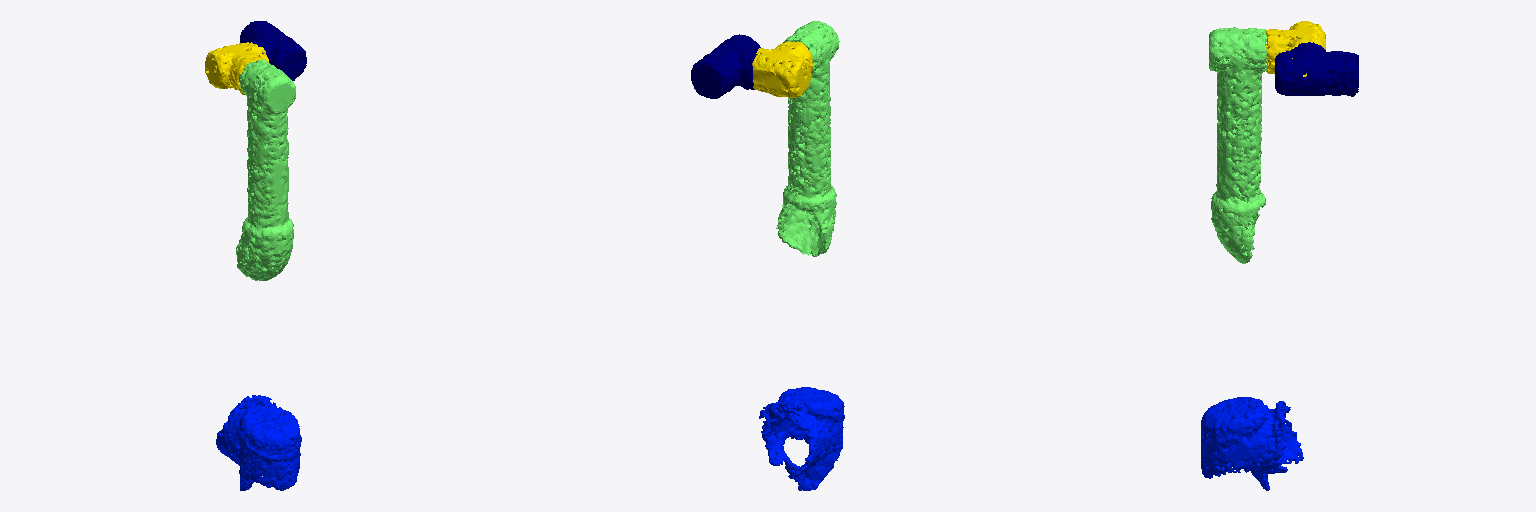
The robot description file, URDF, robot "estimated_robot":
<?xml version='1.0' encoding='utf-8'?>
<robot name="estimated_robot">
  <link name="link_5">
    <visual>
      <origin xyz="0.0014928468 -0.0026043802 0.0444168" rpy="0.0 0.0 0.0" />
      <geometry>
        <mesh filename="mesh/ur5_20_seg/4_deg_20_cams/V0000/0005.stl" scale="1 1 1" />
      </geometry>
      <material name="material_5">
        <color rgba="1.0 0.27668845315904156 0.0 1" />
      </material>
    </visual>
    <collision>
      <origin xyz="0.0014928468 -0.0026043802 0.0444168" rpy="0.0 0.0 0.0" />
      <geometry>
        <mesh filename="mesh/ur5_20_seg/4_deg_20_cams/V0000/0005.stl" scale="1 1 1" />
      </geometry>
    </collision>
    <inertial>
      <origin xyz="0.0014928468 -0.0026043802 0.0444168" rpy="0.0 0.0 0.0" />
      <mass value="1.0" />
      <inertia ixx="0.1" ixy="0.0" ixz="0.0" iyy="0.1" iyz="0.0" izz="0.1" />
    </inertial>
  </link>
  <link name="link_1">
    <visual>
      <origin xyz="-0.0020327757449668804 0.014837000767435955 0.08994051271876799" rpy="0.0 0.0 0.0" />
      <geometry>
        <mesh filename="mesh/ur5_20_seg/4_deg_20_cams/V0000/0001.stl" scale="1 1 1" />
      </geometry>
      <material name="material_1">
        <color rgba="0.0 0.1588235294117647 1.0 1" />
      </material>
    </visual>
    <collision>
      <origin xyz="-0.0020327757449668804 0.014837000767435955 0.08994051271876799" rpy="0.0 0.0 0.0" />
      <geometry>
        <mesh filename="mesh/ur5_20_seg/4_deg_20_cams/V0000/0001.stl" scale="1 1 1" />
      </geometry>
    </collision>
    <inertial>
      <origin xyz="-0.0020327757449668804 0.014837000767435955 0.08994051271876799" rpy="0.0 0.0 0.0" />
      <mass value="1.0" />
      <inertia ixx="0.1" ixy="0.0" ixz="0.0" iyy="0.1" iyz="0.0" izz="0.1" />
    </inertial>
  </link>
  <link name="link_2">
    <visual>
      <origin xyz="0.000430177460270186 0.1162458201328795 0.24779741921424384" rpy="0.0 0.0 0.0" />
      <geometry>
        <mesh filename="mesh/ur5_20_seg/4_deg_20_cams/V0000/0002.stl" scale="1 1 1" />
      </geometry>
      <material name="material_2">
        <color rgba="0.0 0.8333333333333334 1.0 1" />
      </material>
    </visual>
    <collision>
      <origin xyz="0.000430177460270186 0.1162458201328795 0.24779741921424384" rpy="0.0 0.0 0.0" />
      <geometry>
        <mesh filename="mesh/ur5_20_seg/4_deg_20_cams/V0000/0002.stl" scale="1 1 1" />
      </geometry>
    </collision>
    <inertial>
      <origin xyz="0.000430177460270186 0.1162458201328795 0.24779741921424384" rpy="0.0 0.0 0.0" />
      <mass value="1.0" />
      <inertia ixx="0.1" ixy="0.0" ixz="0.0" iyy="0.1" iyz="0.0" izz="0.1" />
    </inertial>
  </link>
  <link name="link_3">
    <visual>
      <origin xyz="0.007010058094784618 -0.06930366120866674 0.20638976093904382" rpy="0.0 0.0 0.0" />
      <geometry>
        <mesh filename="mesh/ur5_20_seg/4_deg_20_cams/V0000/0003.stl" scale="1 1 1" />
      </geometry>
      <material name="material_3">
        <color rgba="0.4901960784313725 1.0 0.4775458570524984 1" />
      </material>
    </visual>
    <collision>
      <origin xyz="0.007010058094784618 -0.06930366120866674 0.20638976093904382" rpy="0.0 0.0 0.0" />
      <geometry>
        <mesh filename="mesh/ur5_20_seg/4_deg_20_cams/V0000/0003.stl" scale="1 1 1" />
      </geometry>
    </collision>
    <inertial>
      <origin xyz="0.007010058094784618 -0.06930366120866674 0.20638976093904382" rpy="0.0 0.0 0.0" />
      <mass value="1.0" />
      <inertia ixx="0.1" ixy="0.0" ixz="0.0" iyy="0.1" iyz="0.0" izz="0.1" />
    </inertial>
  </link>
  <link name="link_4">
    <visual>
      <origin xyz="-0.019140313115529523 0.014656907641161801 0.016907607981282546" rpy="0.0 0.0 0.0" />
      <geometry>
        <mesh filename="mesh/ur5_20_seg/4_deg_20_cams/V0000/0004.stl" scale="1 1 1" />
      </geometry>
      <material name="material_4">
        <color rgba="1.0 0.9012345679012348 0.0 1" />
      </material>
    </visual>
    <collision>
      <origin xyz="-0.019140313115529523 0.014656907641161801 0.016907607981282546" rpy="0.0 0.0 0.0" />
      <geometry>
        <mesh filename="mesh/ur5_20_seg/4_deg_20_cams/V0000/0004.stl" scale="1 1 1" />
      </geometry>
    </collision>
    <inertial>
      <origin xyz="-0.019140313115529523 0.014656907641161801 0.016907607981282546" rpy="0.0 0.0 0.0" />
      <mass value="1.0" />
      <inertia ixx="0.1" ixy="0.0" ixz="0.0" iyy="0.1" iyz="0.0" izz="0.1" />
    </inertial>
  </link>
  <link name="link_0">
    <visual>
      <origin xyz="0.06465529757673634 0.02343625514155584 0.00442971998199182" rpy="0.0 0.0 0.0" />
      <geometry>
        <mesh filename="mesh/ur5_20_seg/4_deg_20_cams/V0000/0000.stl" scale="1 1 1" />
      </geometry>
      <material name="material_0">
        <color rgba="0.0 0.0 0.5 1" />
      </material>
    </visual>
    <collision>
      <origin xyz="0.06465529757673634 0.02343625514155584 0.00442971998199182" rpy="0.0 0.0 0.0" />
      <geometry>
        <mesh filename="mesh/ur5_20_seg/4_deg_20_cams/V0000/0000.stl" scale="1 1 1" />
      </geometry>
    </collision>
    <inertial>
      <origin xyz="0.06465529757673634 0.02343625514155584 0.00442971998199182" rpy="0.0 0.0 0.0" />
      <mass value="1.0" />
      <inertia ixx="0.1" ixy="0.0" ixz="0.0" iyy="0.1" iyz="0.0" izz="0.1" />
    </inertial>
  </link>
  <joint name="joint_1" type="revolute">
    <parent link="link_5" />
    <child link="link_1" />
    <origin xyz="-0.003760807368733271 -0.00150098769619696 0.07714877074757112" rpy="0.0 0.0 0.0" />
    <axis xyz="0.011087188231813596 -0.008592595190431986 0.9999016159427916" />
    <limit effort="100" velocity="100" lower="-3.14159" upper="3.14159" />
  </joint>
  <joint name="joint_2" type="revolute">
    <parent link="link_1" />
    <child link="link_2" />
    <origin xyz="0.004229262478632951 0.02000025876319234 0.08195823923549644" rpy="0.0 0.0 0.0" />
    <axis xyz="-0.05205794610718861 0.9986440521070656 0.00016564504713479505" />
    <limit effort="100" velocity="100" lower="-3.14159" upper="3.14159" />
  </joint>
  <joint name="joint_3" type="revolute">
    <parent link="link_2" />
    <child link="link_3" />
    <origin xyz="-0.008002119345316479 0.05289608429924196 0.43839345734937296" rpy="0.0 0.0 0.0" />
    <axis xyz="0.041213874311807466 0.9972801264935067 0.06110454864660852" />
    <limit effort="100" velocity="100" lower="-3.14159" upper="3.14159" />
  </joint>
  <joint name="joint_4" type="revolute">
    <parent link="link_3" />
    <child link="link_4" />
    <origin xyz="0.014088059863205805 0.031915752365354 0.3723702435682654" rpy="0.0 0.0 0.0" />
    <axis xyz="0.010442377524764285 -0.9984324436311052 0.054987382702310655" />
    <limit effort="100" velocity="100" lower="-3.14159" upper="3.14159" />
  </joint>
  <joint name="joint_0" type="revolute">
    <parent link="link_4" />
    <child link="link_0" />
    <origin xyz="0.025626314926978713 0.029990903475691624 0.011216057669395707" rpy="0.0 0.0 0.0" />
    <axis xyz="-0.9999033278125578 0.011992130386673626 -0.007037317540226142" />
    <limit effort="100" velocity="100" lower="-3.14159" upper="3.14159" />
  </joint>
</robot>

--- What the picture shows (computed from the rendered views, not written in the file) ---
3 views of the same robot in one strip: view 1: azimuth 30°, elevation 25°; view 2: azimuth 150°, elevation 25°; view 3: azimuth 270°, elevation 25° (orthographic).
Robot: estimated_robot — 6 links, 5 joints (5 revolute); root link link_5; default pose: all joints at 0.
Links seen in each view (by area): view 1: link_3, link_1, link_0, link_4; view 2: link_3, link_1, link_0, link_4; view 3: link_3, link_1, link_0, link_4.
Link boxes in pixels (x1=…): link_3: x1=236, y1=59, x2=295, y2=280; link_1: x1=216, y1=395, x2=301, y2=490; link_0: x1=240, y1=21, x2=306, y2=80; link_4: x1=205, y1=42, x2=268, y2=94; link_3: x1=776, y1=21, x2=839, y2=256; link_1: x1=759, y1=387, x2=844, y2=490; link_0: x1=691, y1=34, x2=760, y2=98; link_4: x1=752, y1=41, x2=813, y2=97; link_3: x1=1209, y1=27, x2=1266, y2=263; link_1: x1=1201, y1=397, x2=1303, y2=490; link_0: x1=1275, y1=42, x2=1358, y2=96; link_4: x1=1265, y1=21, x2=1325, y2=76.
Size in the robot's own frame: 0.2057 by 0.3005 by 0.9684 metres.
Meshes: 6 distinct files referenced, 4 mesh visuals loaded (4 binary STL); not drawn: 2 (reference not matched to a file when rendering).